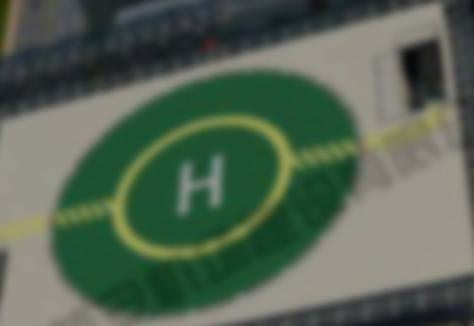Apron: (119, 114, 297, 248)
